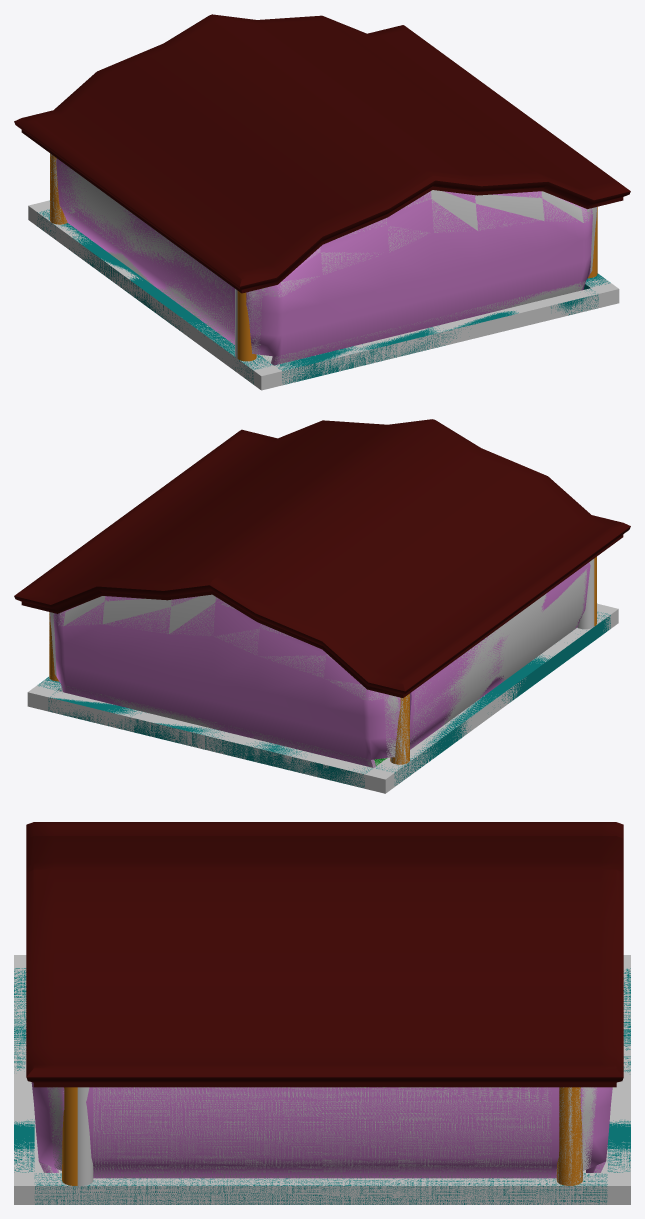
File: stadaum.fbx
3 views of the same model, one above another, from view 1: azimuth 30°, elevation 25°; view 2: azimuth 150°, elevation 25°; view 3: azimuth 270°, elevation 25° (orthographic). The views are drawn at different scales.
Parts seen in each view (by area): view 1: Roof, glass, colisiion-glass, colision-feild, walls, pillars, colision-pillars; view 2: Roof, glass, colisiion-glass, colision-feild, walls, pillars, colision-pillars; view 3: Roof, glass, colisiion-glass, colision-feild, walls, pillars, colision-pillars.
Part boxes in pixels (bbox=[...]): Roof: bbox=[14, 14, 630, 293]; glass: bbox=[56, 158, 596, 365]; colisiion-glass: bbox=[59, 163, 596, 364]; colision-feild: bbox=[28, 200, 619, 390]; walls: bbox=[37, 209, 610, 384]; pillars: bbox=[50, 154, 597, 361]; colision-pillars: bbox=[50, 153, 237, 358]; Roof: bbox=[14, 419, 630, 697]; glass: bbox=[50, 562, 590, 767]; colisiion-glass: bbox=[50, 564, 587, 767]; colision-feild: bbox=[27, 603, 618, 793]; walls: bbox=[38, 612, 610, 788]; pillars: bbox=[49, 556, 596, 764]; colision-pillars: bbox=[49, 559, 594, 764]; Roof: bbox=[26, 822, 623, 1087]; glass: bbox=[31, 1082, 612, 1178]; colisiion-glass: bbox=[40, 1087, 604, 1178]; colision-feild: bbox=[14, 955, 630, 1204]; walls: bbox=[14, 968, 630, 1204]; pillars: bbox=[62, 1087, 582, 1185]; colision-pillars: bbox=[77, 1087, 582, 1185].
Size of what is drawn, in the model's own units: 11478 by 4650 by 11850.
